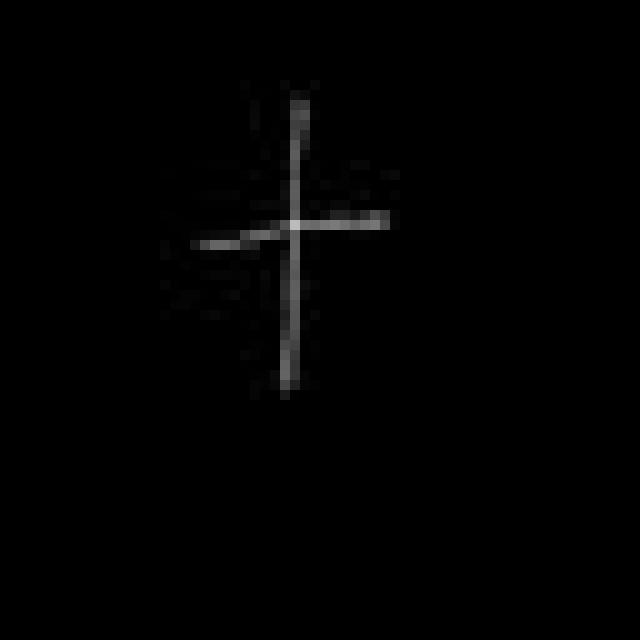10 -ten-: (206, 84, 397, 398)
